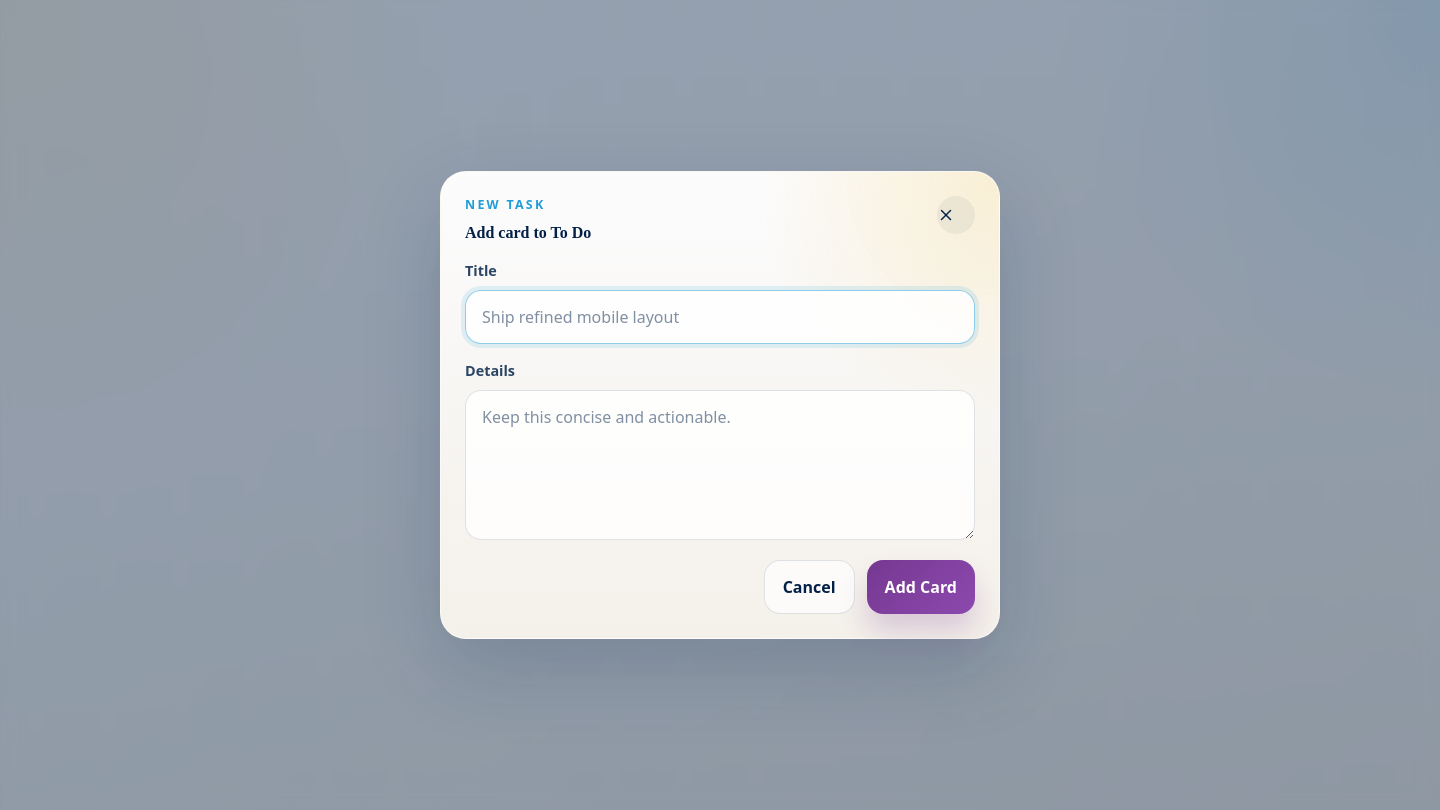
Test: AddCardForm › shows an error when title is empty
Click the button "Add Card": [921, 587] box [867,560,975,614]
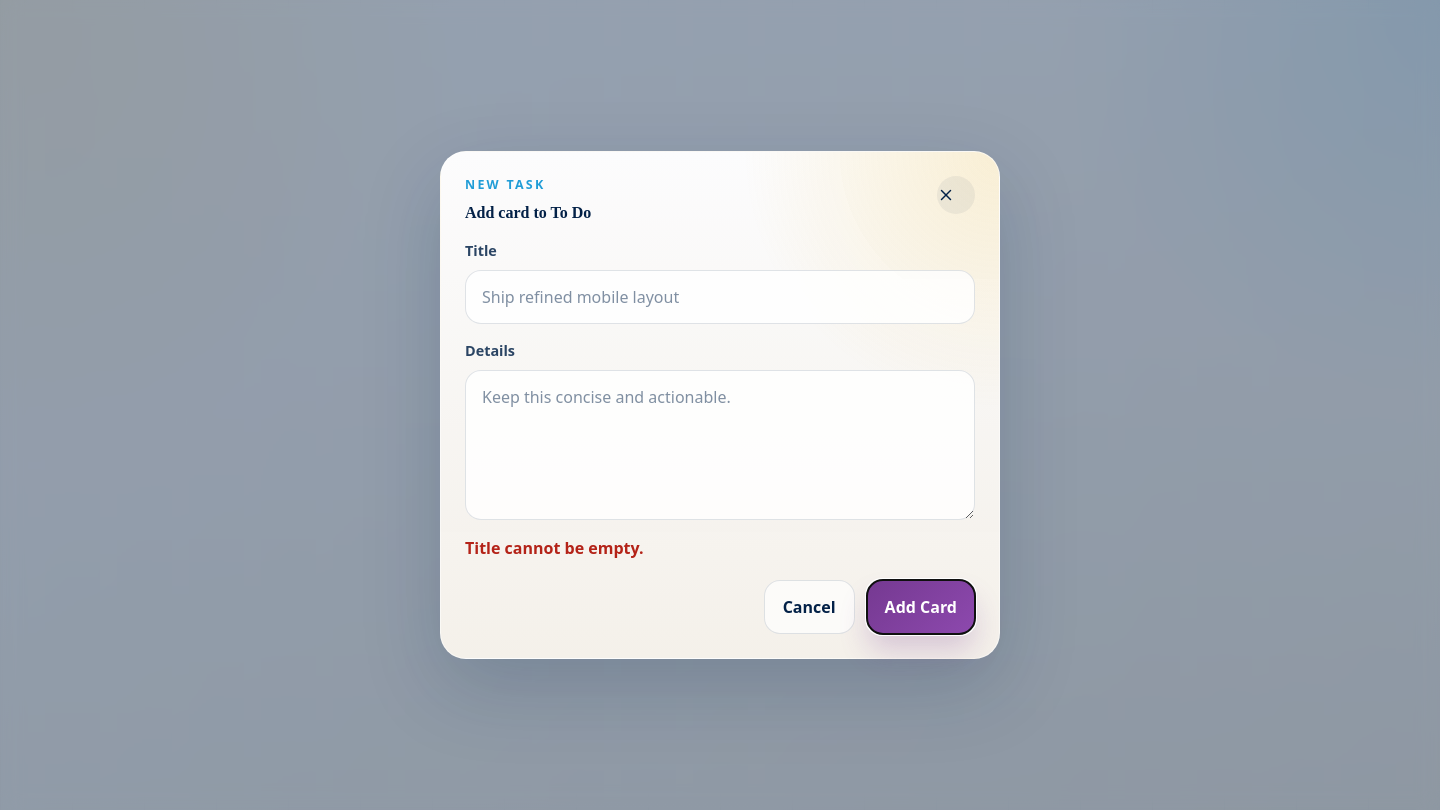
Check: the text "Title cannot be empty." is shown, box [465,537,644,559]
